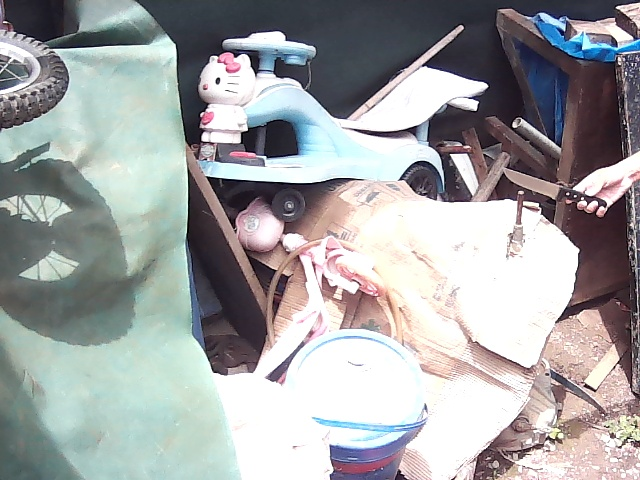cuchillo: (498, 163, 581, 207)
